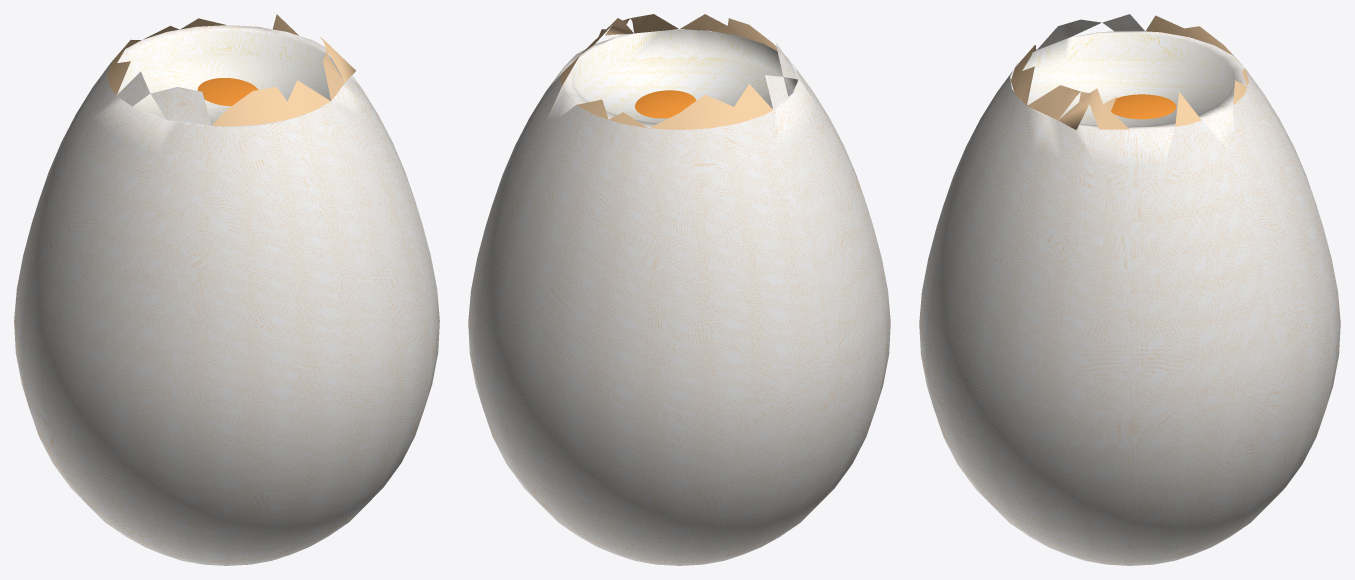
3 renders of one model, left to right at view 1: azimuth 30°, elevation 25°; view 2: azimuth 150°, elevation 25°; view 3: azimuth 270°, elevation 25°, orthographic.
Visible parts, largest first — view 1: Composant_1 (×4), shpere; view 2: Composant_1 (×5), shpere; view 3: Composant_1 (×6), shpere.
Boxes of the visible parts, x1,y1,x2,y2 form: Composant_1 (×4): (14,25,439,565); shpere: (197,78,258,106); Composant_1 (×5): (468,14,890,565); shpere: (635,90,696,118); Composant_1 (×6): (919,14,1340,565); shpere: (1111,94,1176,119).
Bounding box in the file's own units: 52.59 × 52.59 × 68.81.
